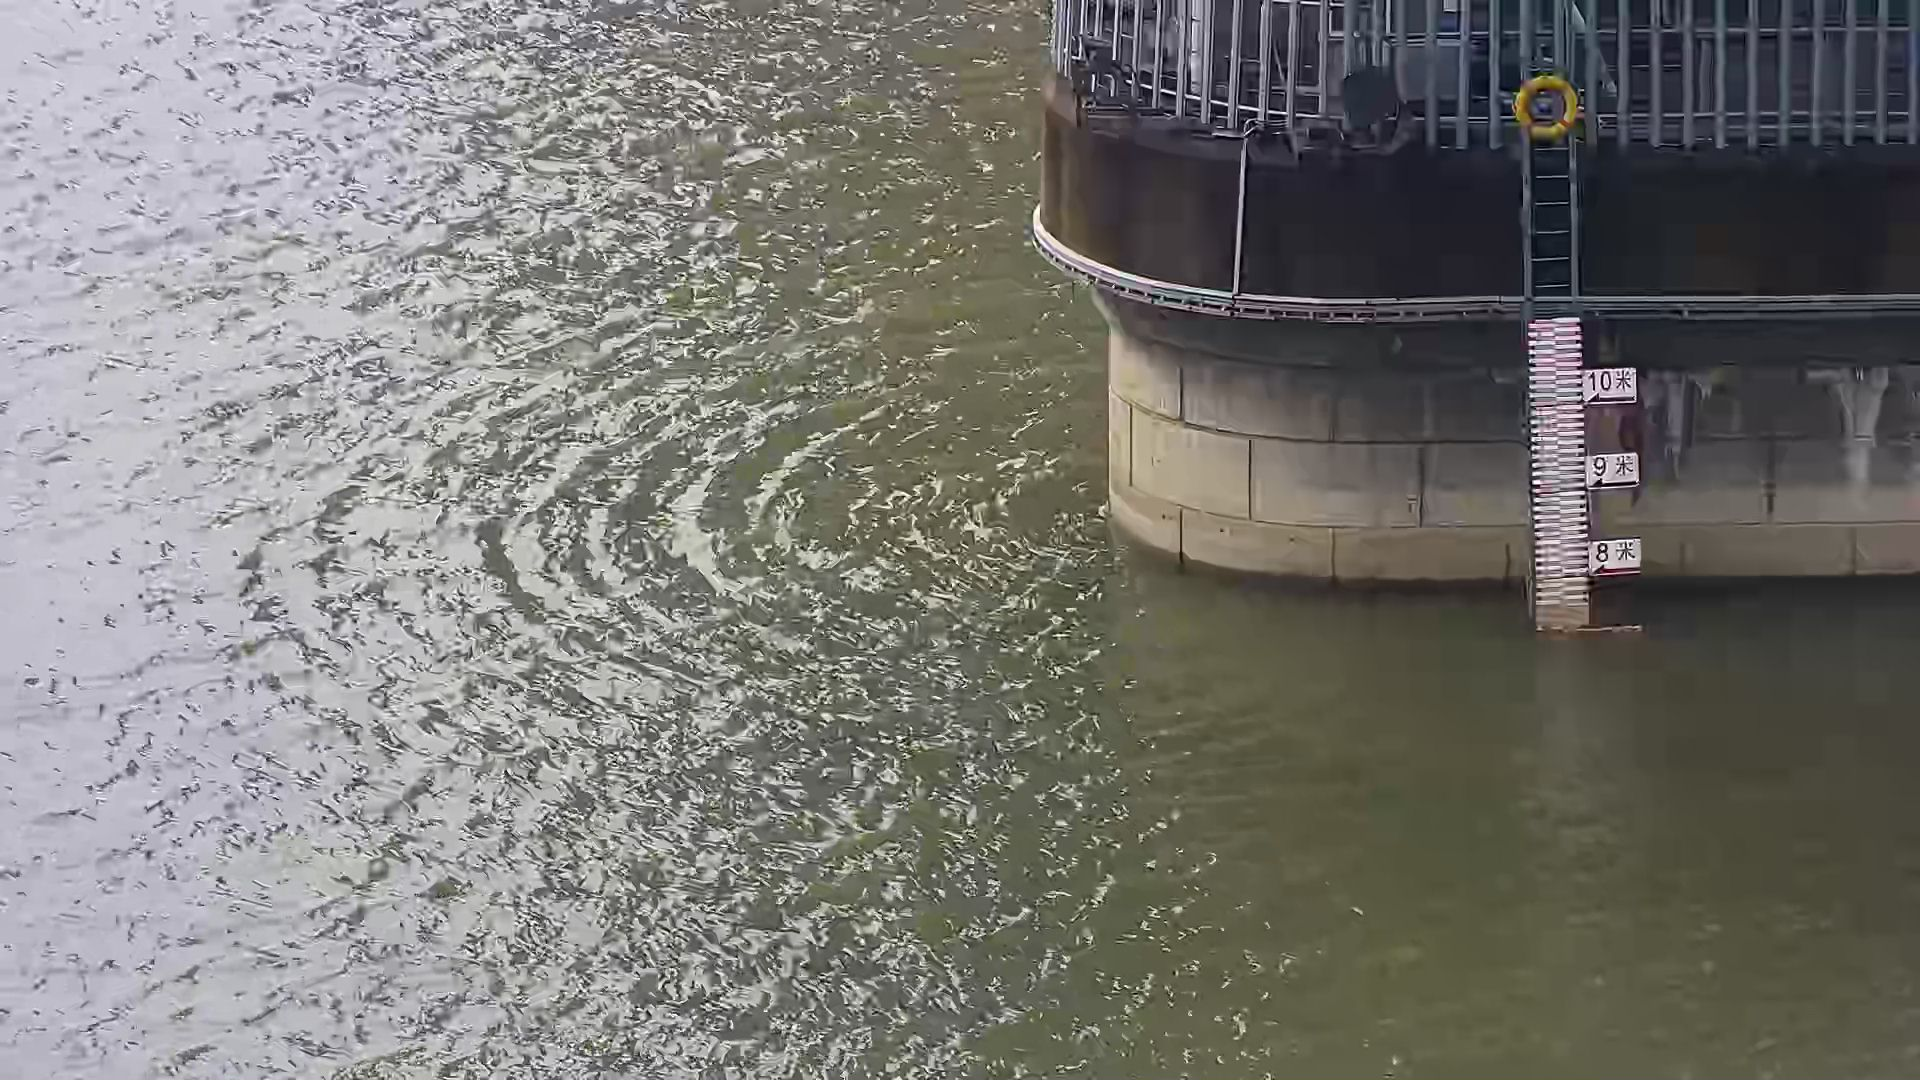bridge: (1001, 4, 1919, 641)
